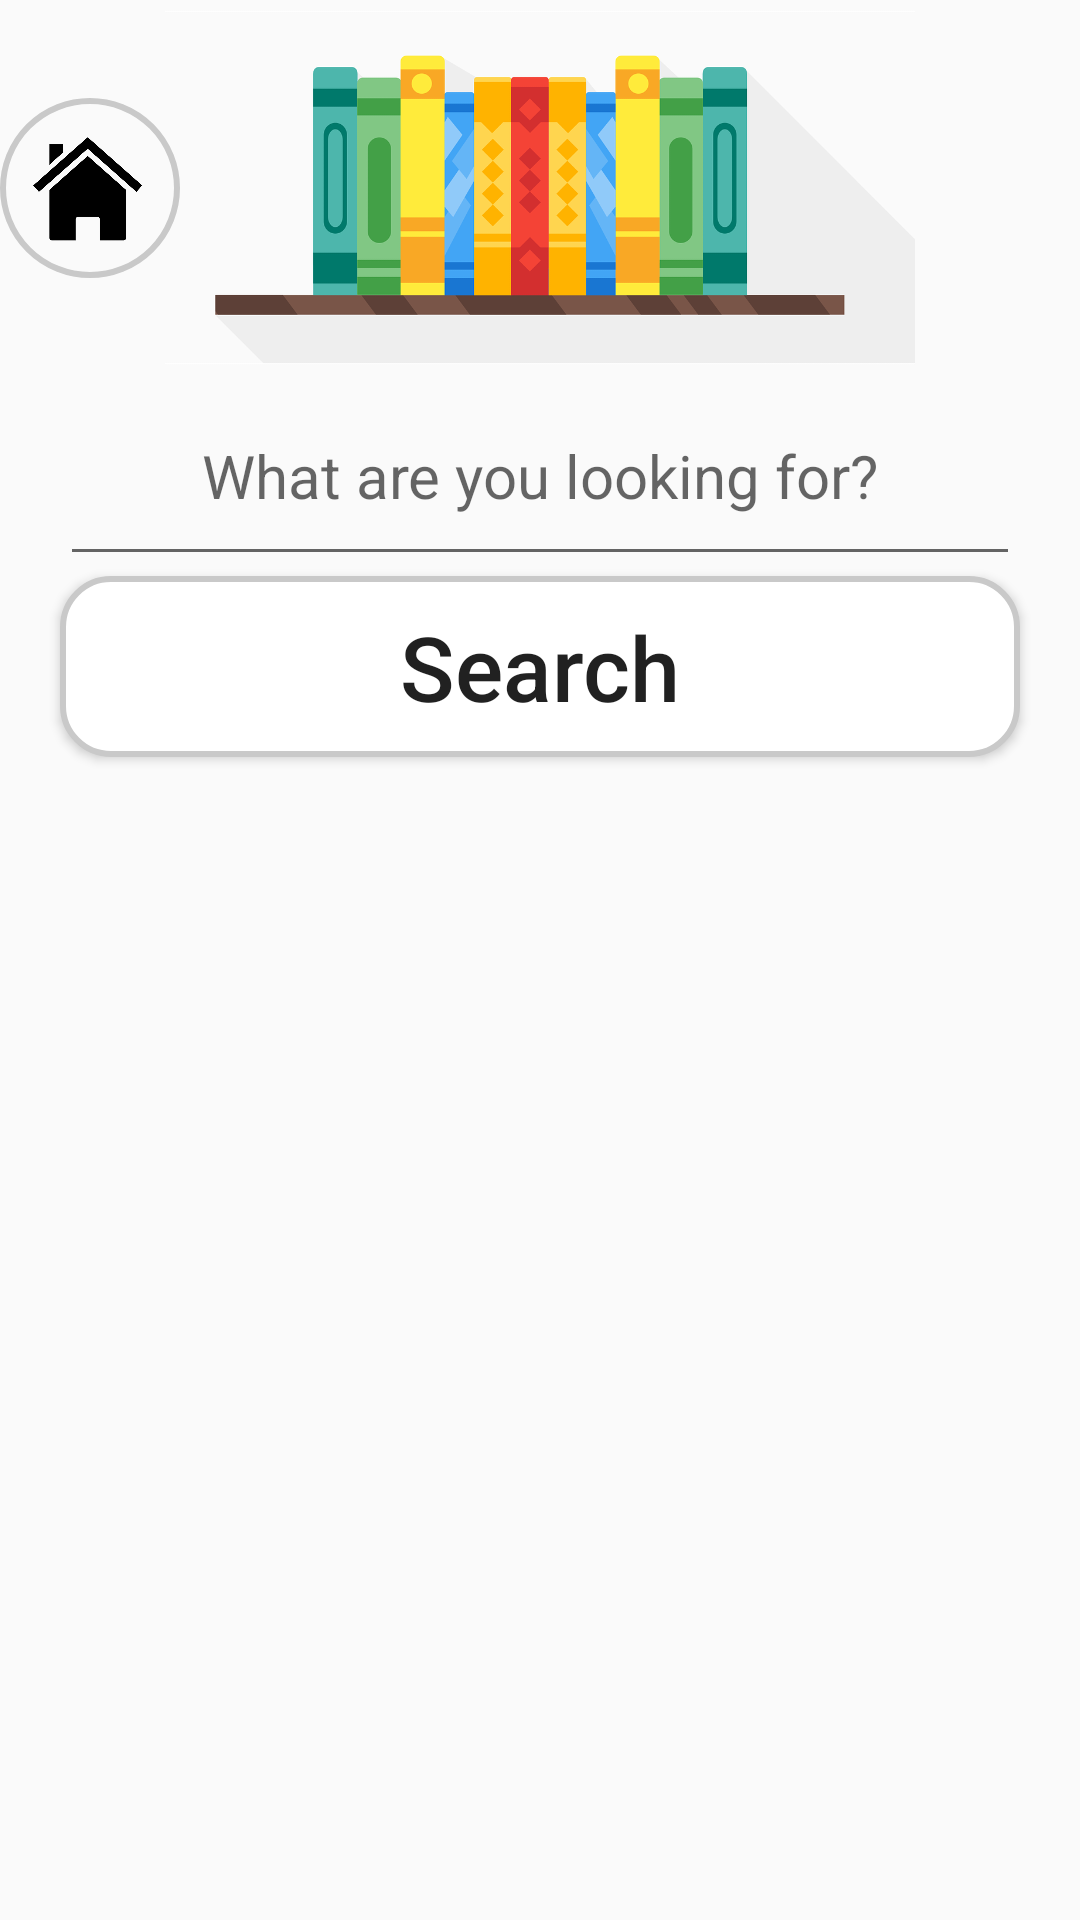

Where to tap for icons on this 1080*1920 app screen, as (x,y):
home: (90,188)
